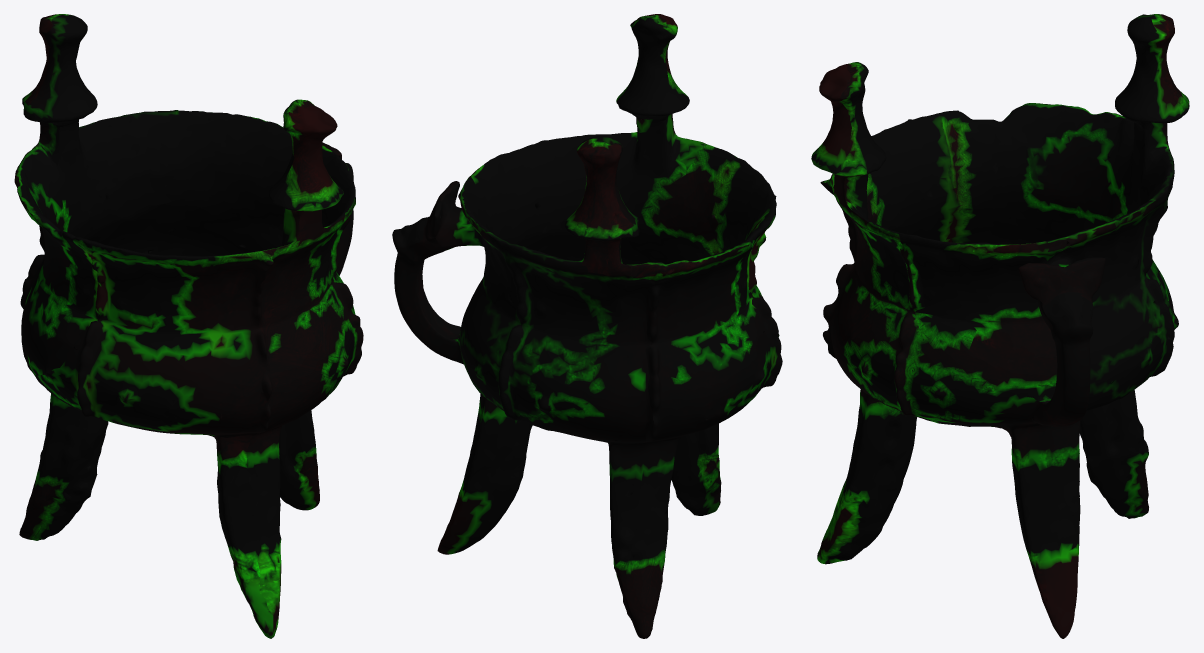
3 views of the same model, side by side, from view 1: azimuth 30°, elevation 25°; view 2: azimuth 150°, elevation 25°; view 3: azimuth 270°, elevation 25° (orthographic). The views are drawn at different scales.
Parts seen in each view (by area): view 1: jia; view 2: jia; view 3: jia.
Part boxes in pixels (left/top/right/bottom): jia: left=14, top=14, right=363, bottom=638; jia: left=392, top=14, right=782, bottom=638; jia: left=811, top=14, right=1189, bottom=638.
Size of the model in its own units: 0.2833 by 0.4055 by 0.2656.
Materials: 1 (1 with a texture image).
